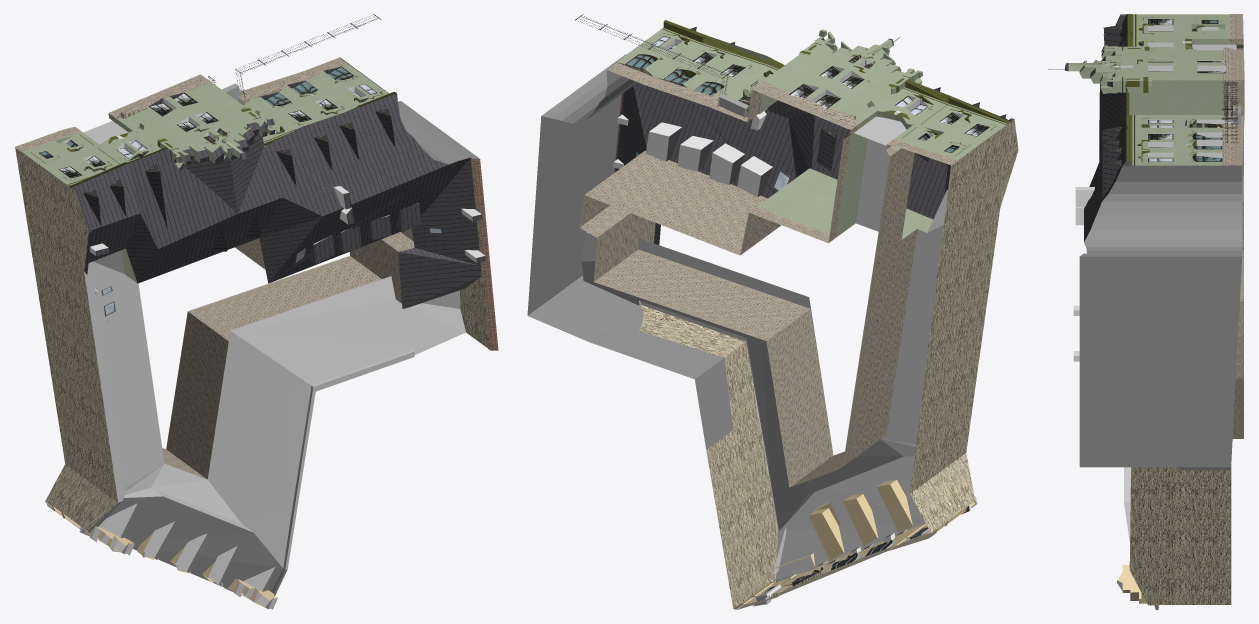
File: Nunne_16-origo.obj
The picture shows the model from 3 angles, left to right: view 1: azimuth 30°, elevation 25°; view 2: azimuth 150°, elevation 25°; view 3: azimuth 270°, elevation 25°; orthographic projection. The views are drawn at different scales.
Parts seen in each view (by area): view 1: Nunne_16; view 2: Nunne_16; view 3: Nunne_16.
Boxes of the visible parts, x1=… form: Nunne_16: x1=15, y1=14, x2=498, y2=609; Nunne_16: x1=527, y1=14, x2=1018, y2=609; Nunne_16: x1=1048, y1=14, x2=1244, y2=609.
Size of the model in its own units: 39.88 by 49.5 by 16.42.
